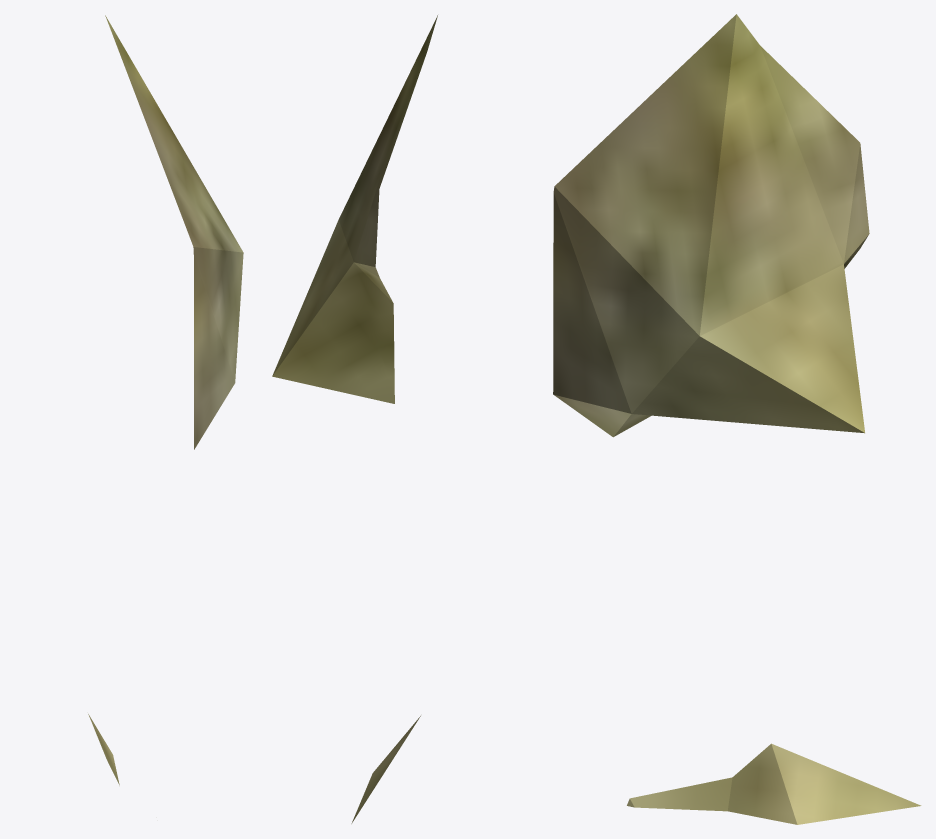
3 renders of one model, left to right at view 1: azimuth 30°, elevation 25°; view 2: azimuth 150°, elevation 25°; view 3: azimuth 270°, elevation 25°, orthographic. The views are drawn at different scales.
Size of the model in its own units: 0.1551 by 0.9454 by 0.3989.
1 material, 1 textured.
